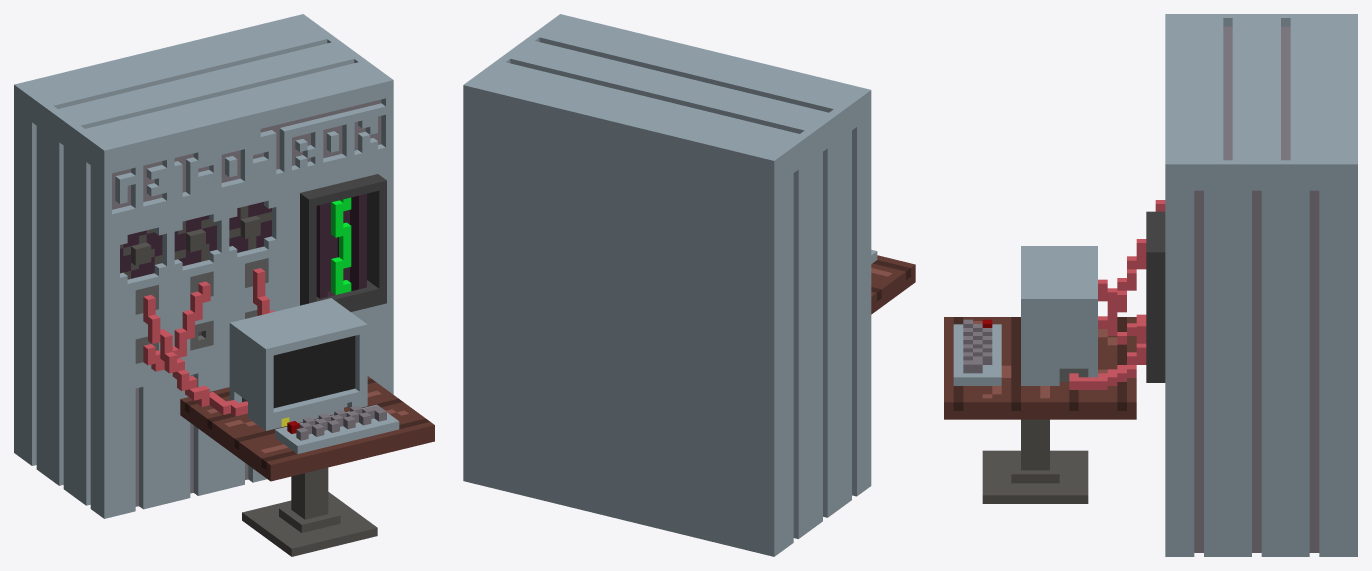
File: Terminal.3.dae
3 renders of one model, left to right at view 1: azimuth 30°, elevation 25°; view 2: azimuth 150°, elevation 25°; view 3: azimuth 270°, elevation 25°, orthographic. The views are drawn at different scales.
Visible parts, largest first — view 1: Terminal3; view 2: Terminal3; view 3: Terminal3.
Boxes of the visible parts, box(x1,y1,x2,y2) form: Terminal3: box(14, 14, 434, 556); Terminal3: box(463, 14, 915, 556); Terminal3: box(944, 14, 1357, 556).
Size of the model in its own units: 37 by 43 by 45.
Materials: 1 (1 with a texture image).
